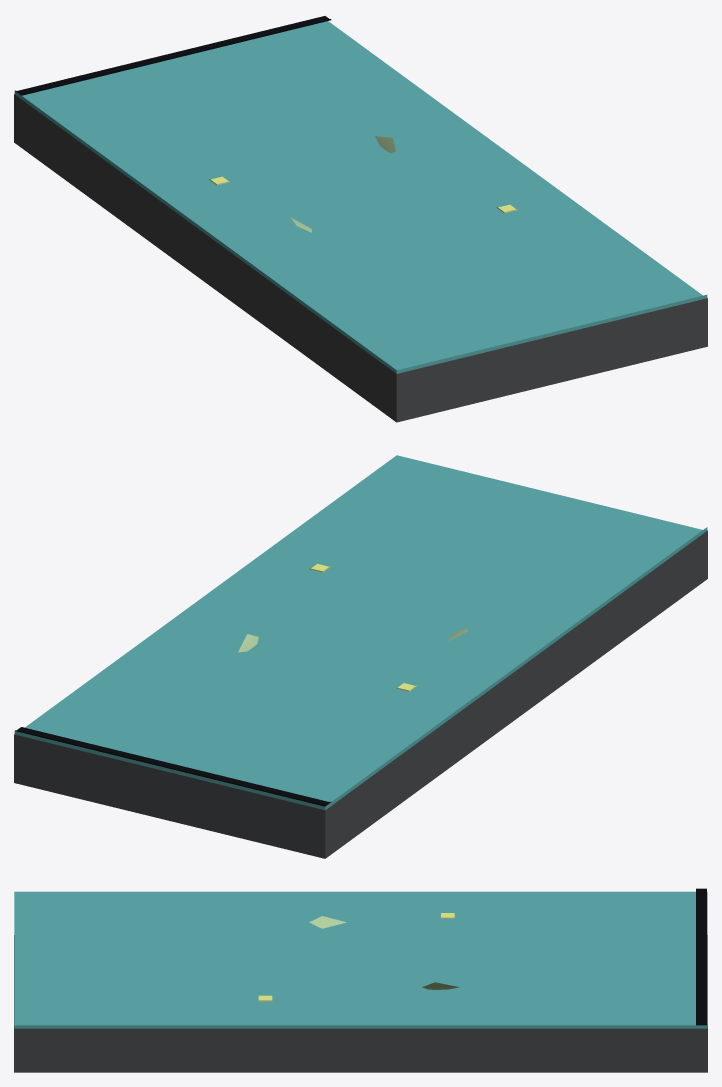
File: tt_climb_mat_300_188x40.glb
The picture shows the model from 3 angles, top to bottom: view 1: azimuth 30°, elevation 25°; view 2: azimuth 150°, elevation 25°; view 3: azimuth 270°, elevation 25°; orthographic projection. The views are drawn at different scales.
Visible parts, largest first — view 1: Mat_Cover, Mat_Core, Velcro_Seam_Flap; view 2: Mat_Cover, Mat_Core, Velcro_Seam_Flap; view 3: Mat_Cover, Mat_Core, Velcro_Seam_Flap, Leaf_Print.
Boxes of the visible parts, box(x1,y1,x2,y2) form: Mat_Cover: box(14, 21, 707, 373); Mat_Core: box(14, 94, 707, 422); Velcro_Seam_Flap: box(15, 16, 331, 95); Mat_Cover: box(14, 455, 707, 810); Mat_Core: box(14, 530, 707, 858); Velcro_Seam_Flap: box(15, 727, 331, 806); Mat_Cover: box(14, 891, 707, 1028); Mat_Core: box(14, 935, 707, 1072); Velcro_Seam_Flap: box(696, 888, 706, 1025); Leaf_Print: box(309, 916, 459, 989).
Size of what is drawn, in the model's own units: 1.88 by 0.3412 by 4.
5 materials, 1 textured.
